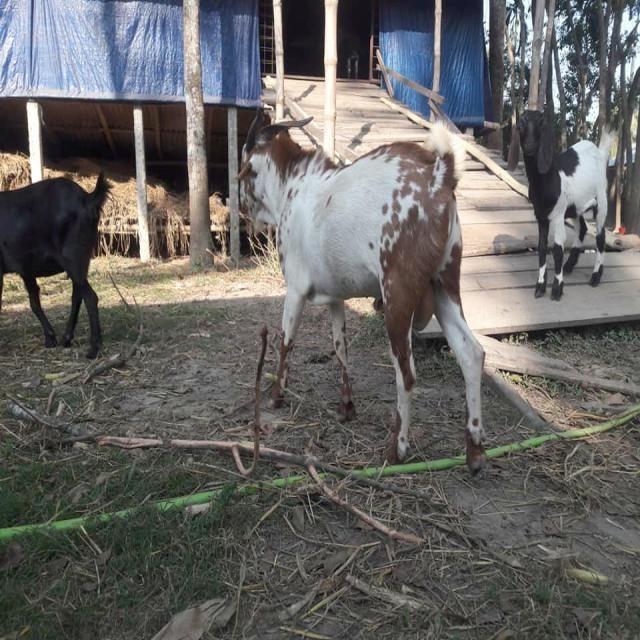Goat: (235, 106, 489, 476), (1, 169, 115, 360), (515, 107, 623, 301)
